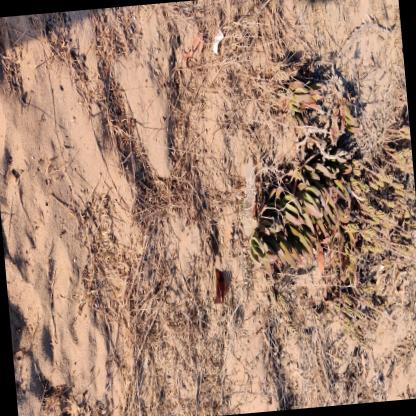Glass: (213, 268, 224, 304), (204, 253, 207, 268)
Plastic: (242, 157, 254, 237), (258, 293, 269, 308)
Waste: (212, 32, 223, 55)
